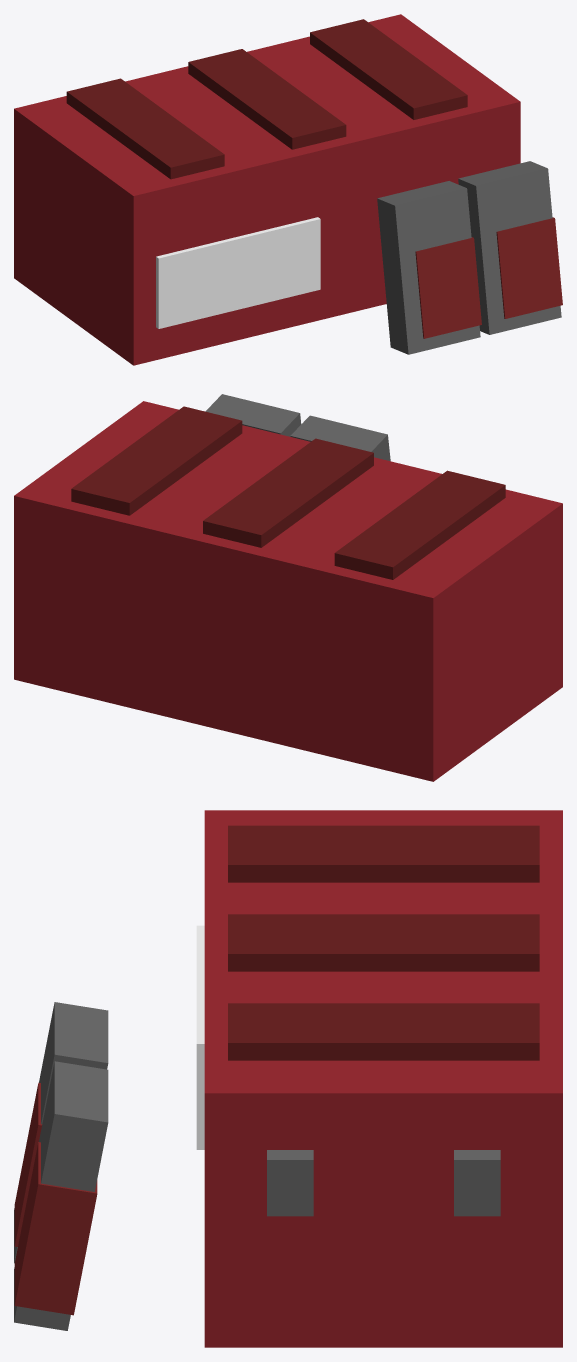
File: ce_ammo_gae_chrifle_conc_c.obj
The picture shows the model from 3 angles, top to bottom: view 1: azimuth 30°, elevation 25°; view 2: azimuth 150°, elevation 25°; view 3: azimuth 270°, elevation 25°; orthographic projection. The views are drawn at different scales.
Parts seen in each view (by area): view 1: ce_ammo_gae_chrifle_conc_c_0, ce_ammo_gae_chrifle_conc_c_4, ce_ammo_gae_chrifle_conc_c_7, ce_ammo_gae_chrifle_conc_c_9, ce_ammo_gae_chrifle_conc_c_1, ce_ammo_gae_chrifle_conc_c_2, ce_ammo_gae_chrifle_conc_c_3, ce_ammo_gae_chrifle_conc_c_8, ce_ammo_gae_chrifle_conc_c_10; view 2: ce_ammo_gae_chrifle_conc_c_0, ce_ammo_gae_chrifle_conc_c_3, ce_ammo_gae_chrifle_conc_c_1, ce_ammo_gae_chrifle_conc_c_2, ce_ammo_gae_chrifle_conc_c_7, ce_ammo_gae_chrifle_conc_c_9; view 3: ce_ammo_gae_chrifle_conc_c_0, ce_ammo_gae_chrifle_conc_c_1, ce_ammo_gae_chrifle_conc_c_2, ce_ammo_gae_chrifle_conc_c_3, ce_ammo_gae_chrifle_conc_c_10, ce_ammo_gae_chrifle_conc_c_9, ce_ammo_gae_chrifle_conc_c_7, ce_ammo_gae_chrifle_conc_c_5, ce_ammo_gae_chrifle_conc_c_6, ce_ammo_gae_chrifle_conc_c_4, ce_ammo_gae_chrifle_conc_c_8.
Boxes of the visible parts, x1,y1,x2,y2 form: ce_ammo_gae_chrifle_conc_c_0: [14, 14, 520, 365]; ce_ammo_gae_chrifle_conc_c_4: [156, 217, 320, 328]; ce_ammo_gae_chrifle_conc_c_7: [377, 181, 480, 354]; ce_ammo_gae_chrifle_conc_c_9: [458, 161, 561, 334]; ce_ammo_gae_chrifle_conc_c_1: [66, 78, 224, 179]; ce_ammo_gae_chrifle_conc_c_2: [188, 49, 346, 149]; ce_ammo_gae_chrifle_conc_c_3: [310, 19, 467, 119]; ce_ammo_gae_chrifle_conc_c_8: [415, 237, 481, 338]; ce_ammo_gae_chrifle_conc_c_10: [496, 217, 562, 318]; ce_ammo_gae_chrifle_conc_c_0: [14, 401, 562, 781]; ce_ammo_gae_chrifle_conc_c_3: [71, 406, 242, 515]; ce_ammo_gae_chrifle_conc_c_1: [334, 470, 505, 579]; ce_ammo_gae_chrifle_conc_c_2: [203, 438, 373, 547]; ce_ammo_gae_chrifle_conc_c_7: [290, 415, 390, 461]; ce_ammo_gae_chrifle_conc_c_9: [205, 394, 301, 436]; ce_ammo_gae_chrifle_conc_c_0: [204, 810, 562, 1347]; ce_ammo_gae_chrifle_conc_c_1: [228, 825, 539, 882]; ce_ammo_gae_chrifle_conc_c_2: [228, 914, 539, 971]; ce_ammo_gae_chrifle_conc_c_3: [228, 1003, 539, 1060]; ce_ammo_gae_chrifle_conc_c_10: [14, 1142, 97, 1315]; ce_ammo_gae_chrifle_conc_c_9: [14, 1061, 108, 1330]; ce_ammo_gae_chrifle_conc_c_7: [14, 1002, 108, 1263]; ce_ammo_gae_chrifle_conc_c_5: [267, 1150, 313, 1216]; ce_ammo_gae_chrifle_conc_c_6: [454, 1150, 500, 1216]; ce_ammo_gae_chrifle_conc_c_4: [196, 925, 204, 1149]; ce_ammo_gae_chrifle_conc_c_8: [14, 1082, 42, 1246].
Size of the model in its own units: 0.89 by 0.385 by 0.7045.
